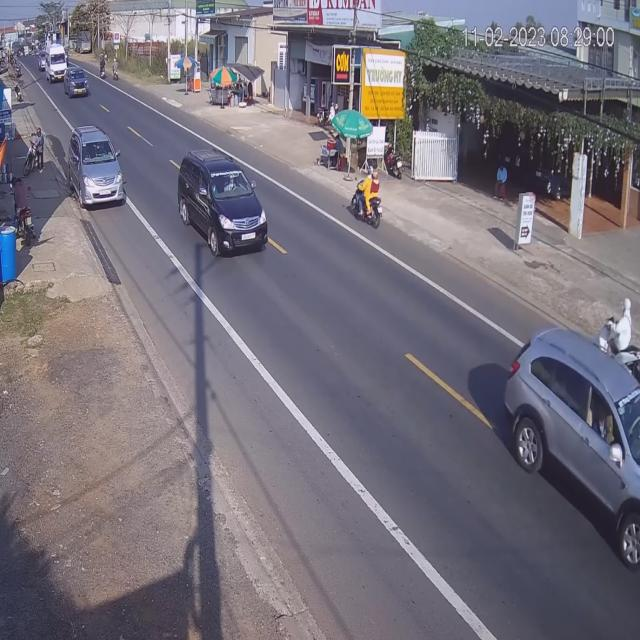bus: (47, 46, 68, 84)
car: (502, 316, 639, 578), (178, 149, 270, 257), (68, 125, 125, 209), (65, 70, 88, 100)
motorbike: (350, 172, 382, 229)
